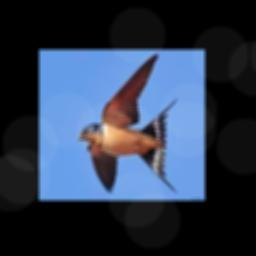Swallow: (75, 52, 178, 193)
